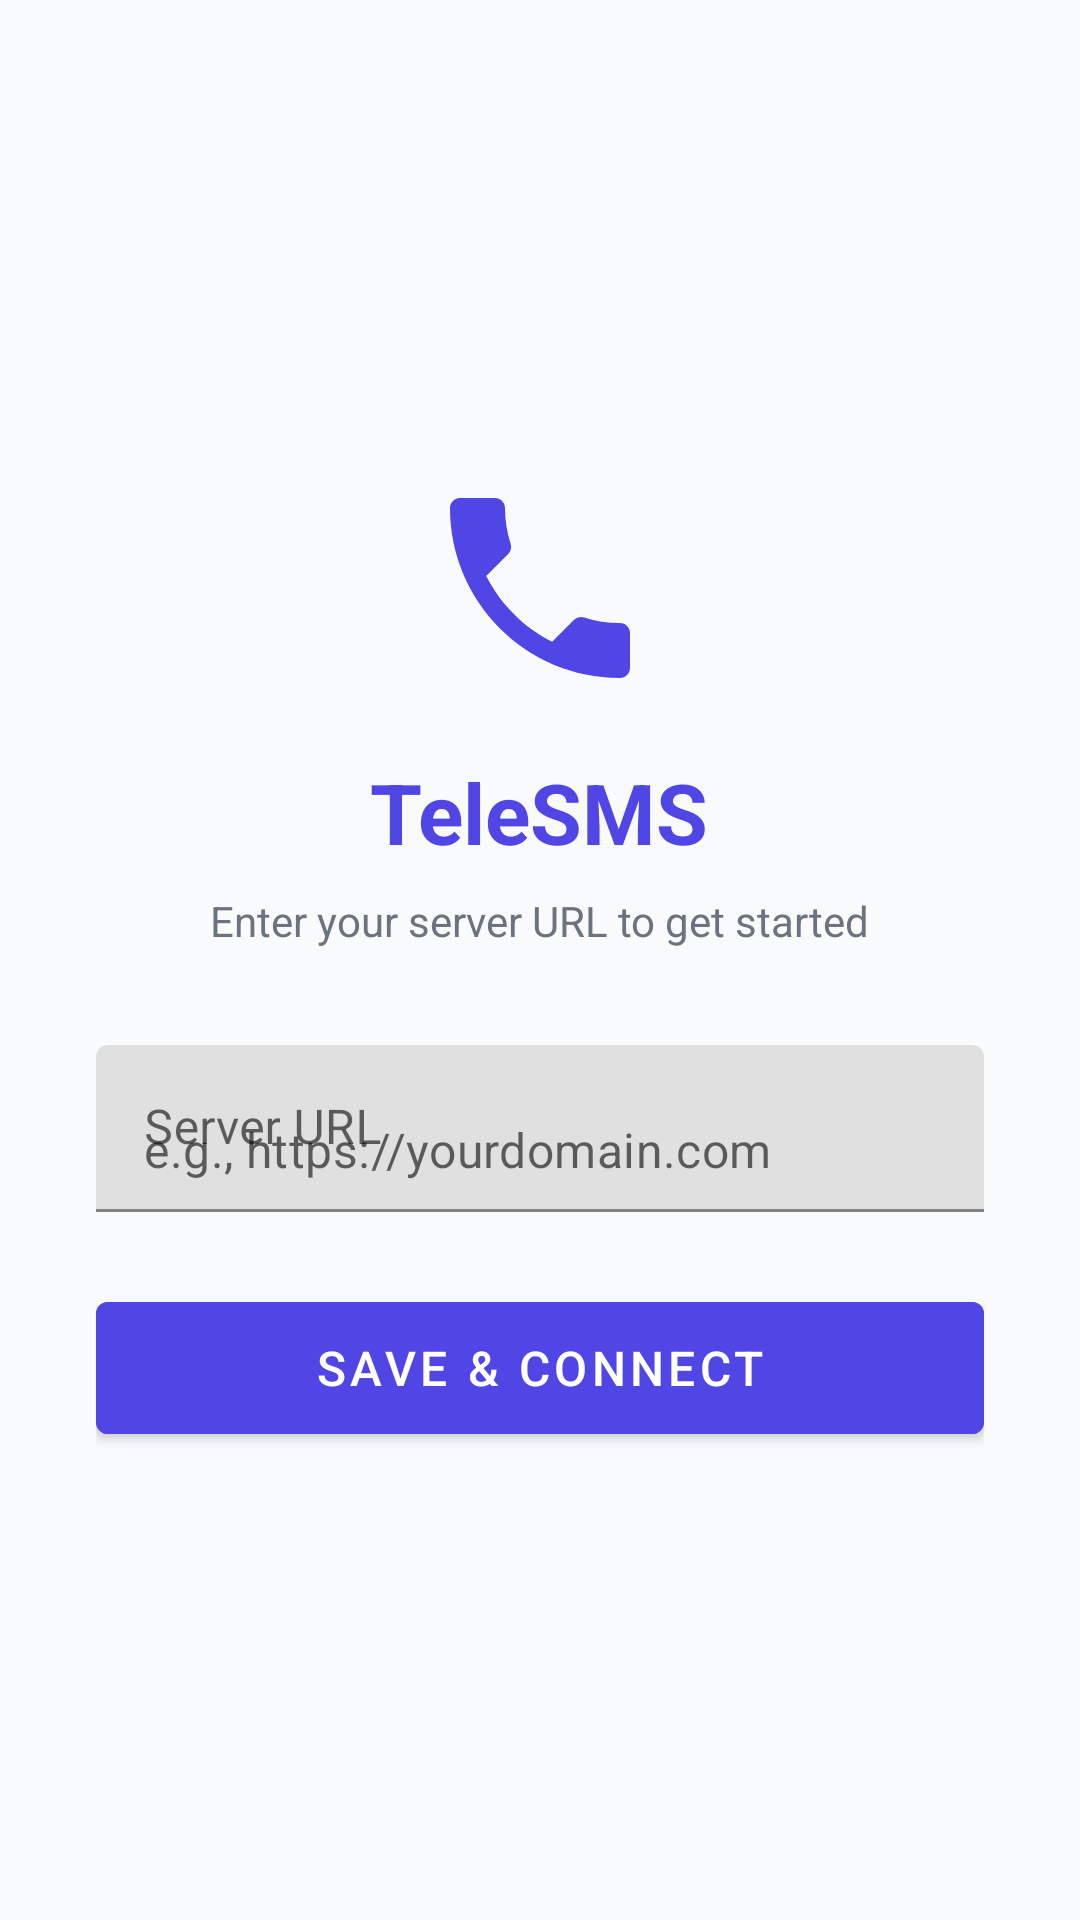

Icon click points for this 1080 × 1920 phone screenshot, format point (x, y):
phone: point (540, 588)
